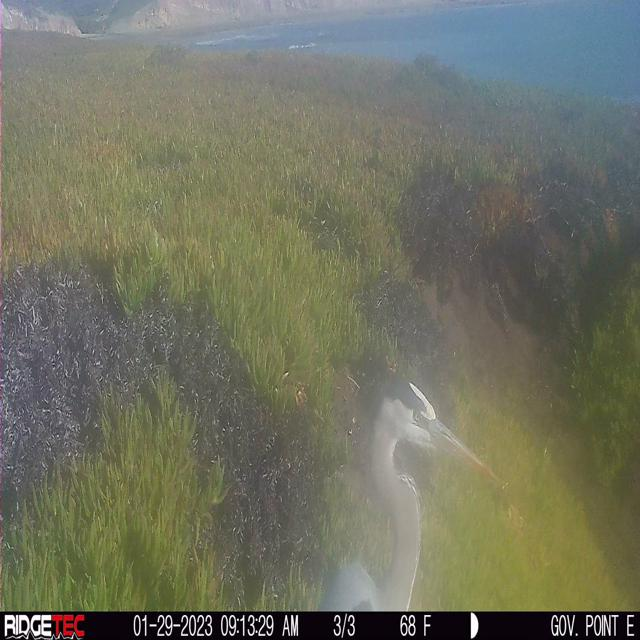bird: (317, 378, 502, 612)
